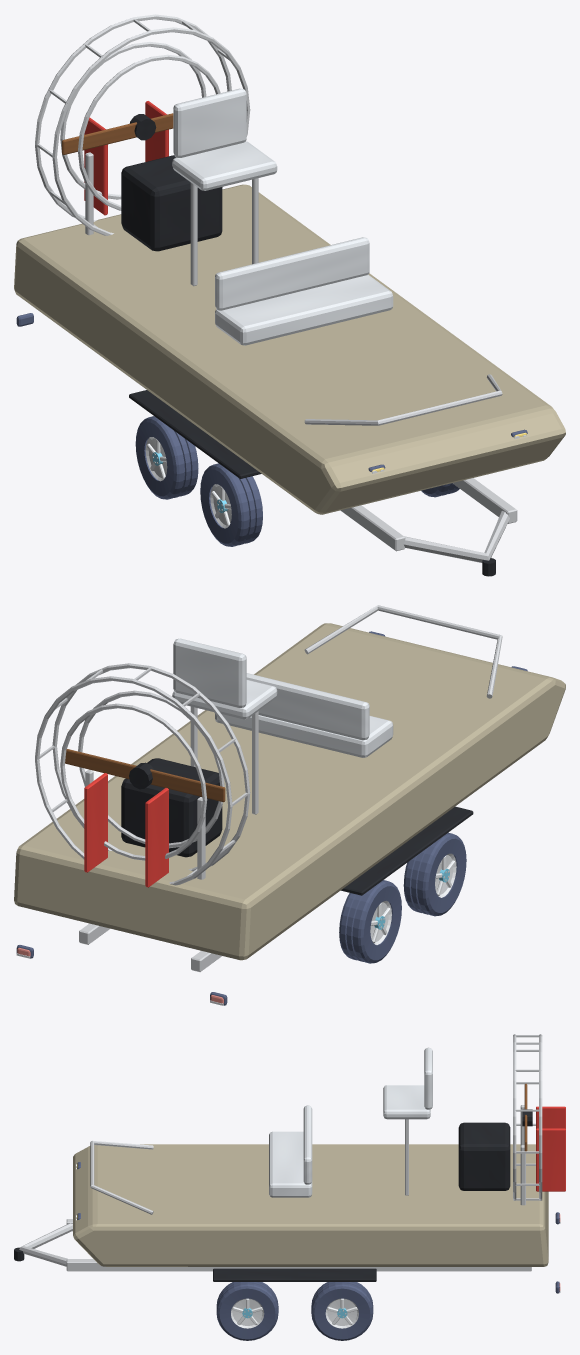
Rendered from B03_swamp_airboat_v2.glb.
3 views of the same model, one above another, from view 1: azimuth 30°, elevation 25°; view 2: azimuth 150°, elevation 25°; view 3: azimuth 270°, elevation 25° (orthographic). The views are drawn at different scales.
Parts seen in each view (by area): view 1: Body, Deck, FanCage, Trailer, Wheel_FR, Wheel_RR, Propeller; view 2: Body, Deck, FanCage, Wheel_RR, Wheel_FR, Trailer, Propeller; view 3: Body, Deck, Trailer, FanCage, Wheel_FL, Wheel_RL.
Part boxes in pixels (x1,y1,x2,y2): Body: (14,184,565,514); Deck: (121,88,502,425); FanCage: (35,14,250,235); Trailer: (129,390,517,576); Wheel_FR: (200,463,262,546); Wheel_RR: (135,416,198,499); Propeller: (62,113,173,154); Body: (14,623,565,960); Deck: (121,605,502,857); FanCage: (35,663,250,887); Wheel_RR: (339,880,401,963); Wheel_FR: (403,832,466,916); Trailer: (79,806,473,971); Propeller: (65,749,225,802); Body: (73,1144,548,1266); Deck: (90,1047,510,1214); Trailer: (14,1219,531,1281); FanCage: (513,1034,565,1205); Wheel_FL: (216,1282,278,1340); Wheel_RL: (311,1282,373,1340).
Size of the model in its own units: 2.3 by 3.32 by 6.4.
8 materials, 1 textured.
